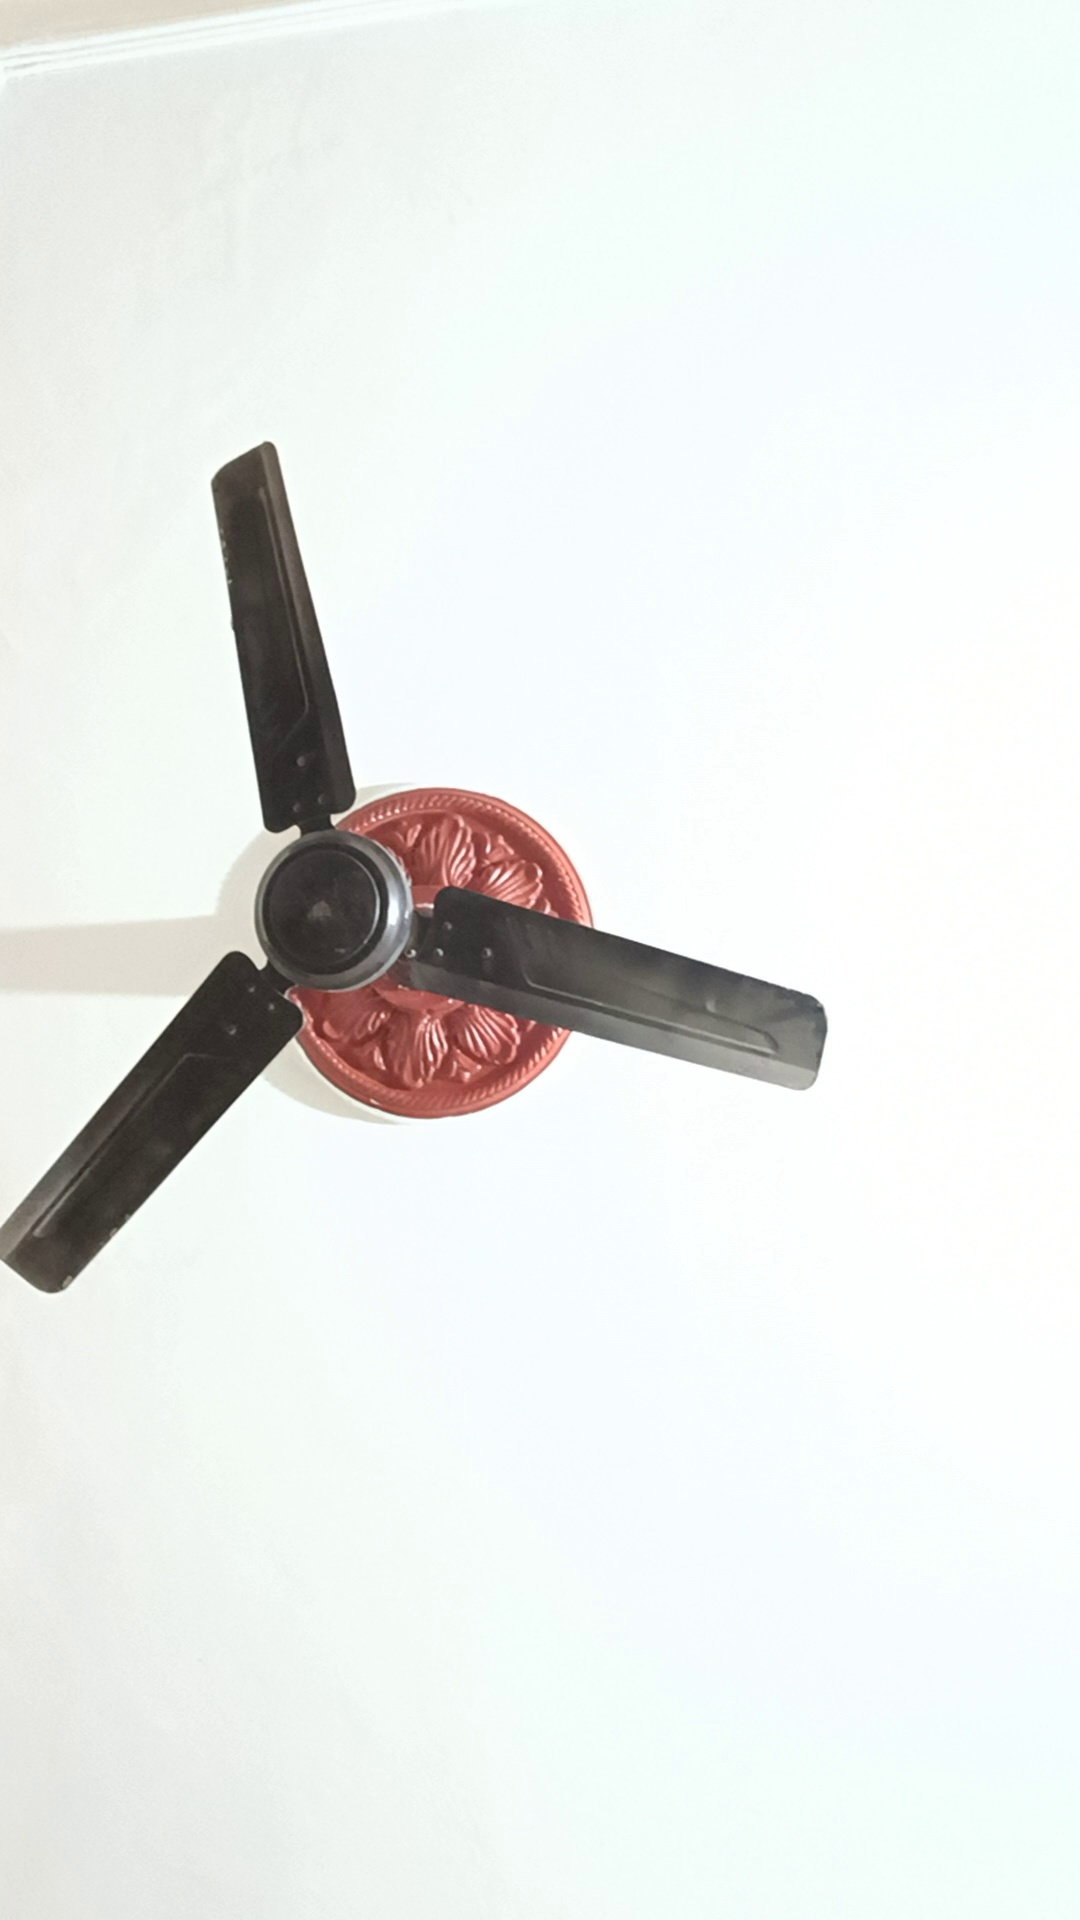fan: (1, 436, 837, 1302)
